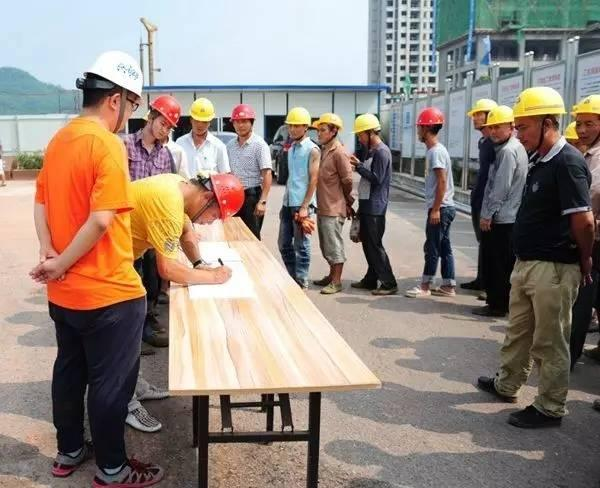helmet: (81, 51, 145, 93), (207, 169, 247, 223), (513, 86, 566, 123), (150, 95, 184, 120), (189, 98, 218, 123), (416, 106, 448, 128), (571, 96, 600, 120), (466, 97, 500, 116), (352, 113, 380, 135), (487, 105, 514, 127), (285, 106, 312, 127), (229, 103, 257, 122), (318, 112, 345, 127)
no_wear: (36, 126, 131, 292), (521, 149, 587, 263), (131, 176, 184, 257), (484, 139, 527, 222), (314, 143, 350, 217), (279, 139, 313, 209), (361, 144, 394, 216), (426, 144, 456, 222), (127, 139, 179, 175), (180, 136, 226, 175), (229, 137, 266, 182)
